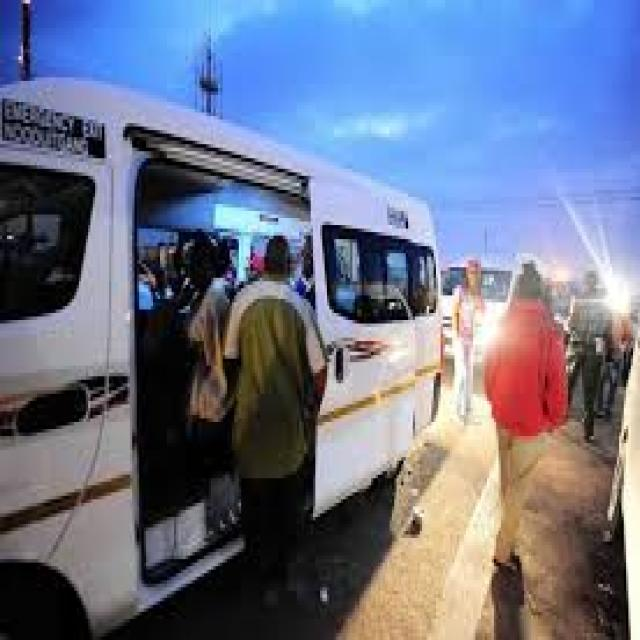MiniBus taxi: (2, 81, 462, 608)
Pedestrians: (216, 225, 327, 633), (473, 242, 561, 570)
